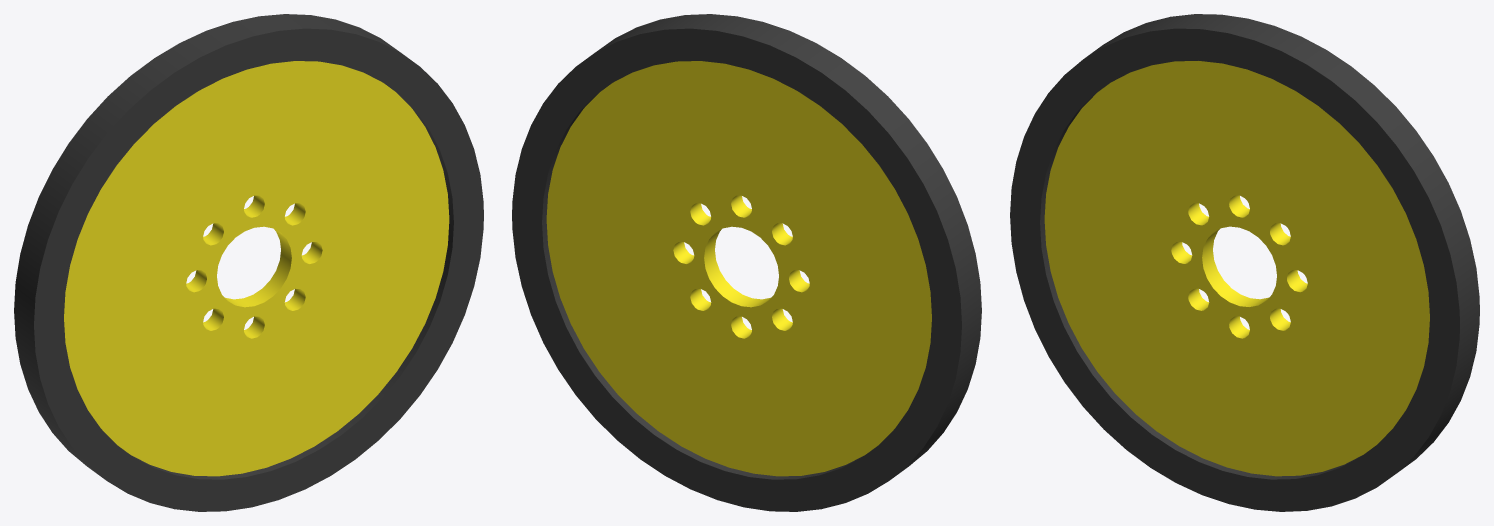
File: ROB-12357.obj
3 renders of one model, left to right at view 1: azimuth 30°, elevation 25°; view 2: azimuth 150°, elevation 25°; view 3: azimuth 330°, elevation 25°, orthographic.
Visible parts, largest first — view 1: mesh 2 Boss-Extrude1, mesh 1 RO; view 2: mesh 2 Boss-Extrude1, mesh 1 RO; view 3: mesh 2 Boss-Extrude1, mesh 1 RO.
Part boxes in pixels (box(x1,y1,x2,y2)): mesh 2 Boss-Extrude1: box(64, 61, 449, 476); mesh 1 RO: box(14, 14, 483, 511); mesh 2 Boss-Extrude1: box(546, 61, 931, 476); mesh 1 RO: box(512, 14, 981, 511); mesh 2 Boss-Extrude1: box(1044, 61, 1429, 476); mesh 1 RO: box(1010, 14, 1479, 511).
Size of the model in its own units: 0.0762 by 0.0762 by 0.00584.
